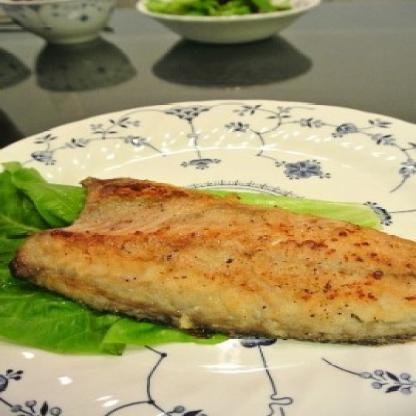Peixe: (15, 170, 416, 370)
